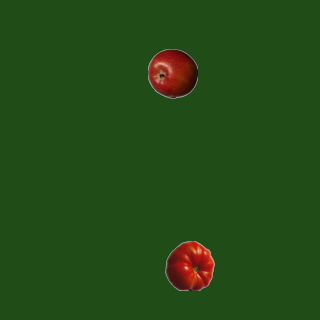Apple Braeburn: (147, 48, 197, 98)
Tomato 3: (164, 240, 214, 290)
